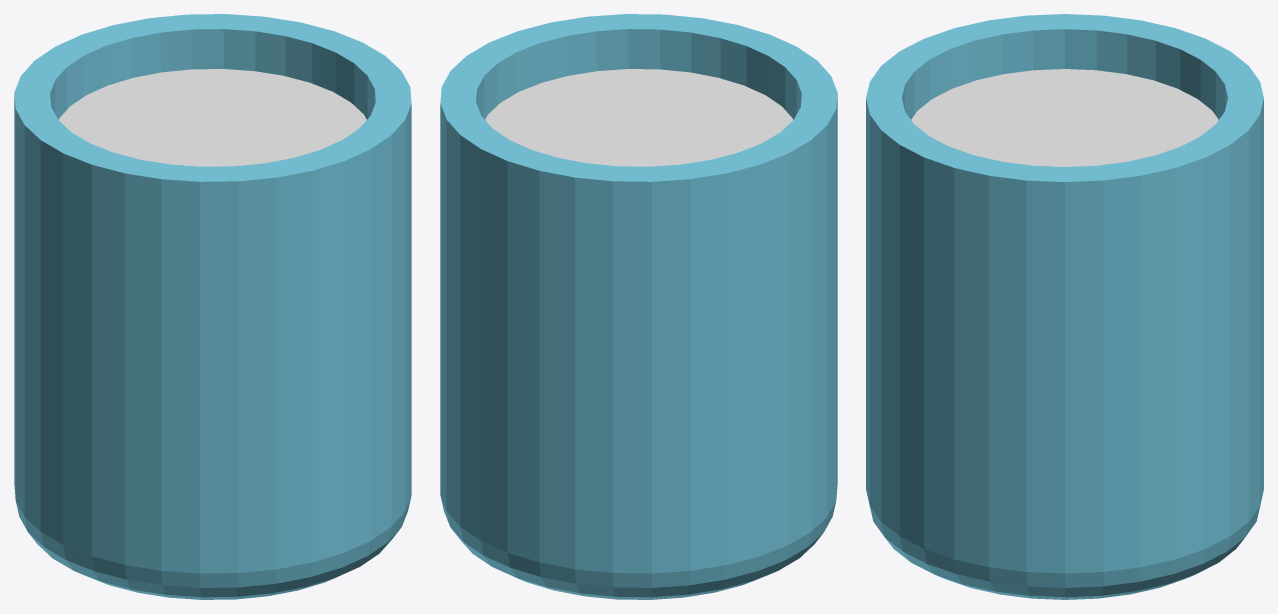
File: smesh.fbx
3 views of the same model, side by side, from view 1: azimuth 30°, elevation 25°; view 2: azimuth 150°, elevation 25°; view 3: azimuth 270°, elevation 25° (orthographic).
Parts seen in each view (by area): view 1: Цилиндр, Цилиндр.001; view 2: Цилиндр, Цилиндр.001; view 3: Цилиндр, Цилиндр.001.
Part boxes in pixels (left/top/right/bottom): Цилиндр: left=14, top=14, right=411, bottom=599; Цилиндр.001: left=58, top=69, right=366, bottom=166; Цилиндр: left=440, top=14, right=837, bottom=599; Цилиндр.001: left=485, top=69, right=793, bottom=166; Цилиндр: left=866, top=14, right=1263, bottom=599; Цилиндр.001: left=911, top=69, right=1218, bottom=166.
Size of the model in its own units: 20 by 24.02 by 20.
